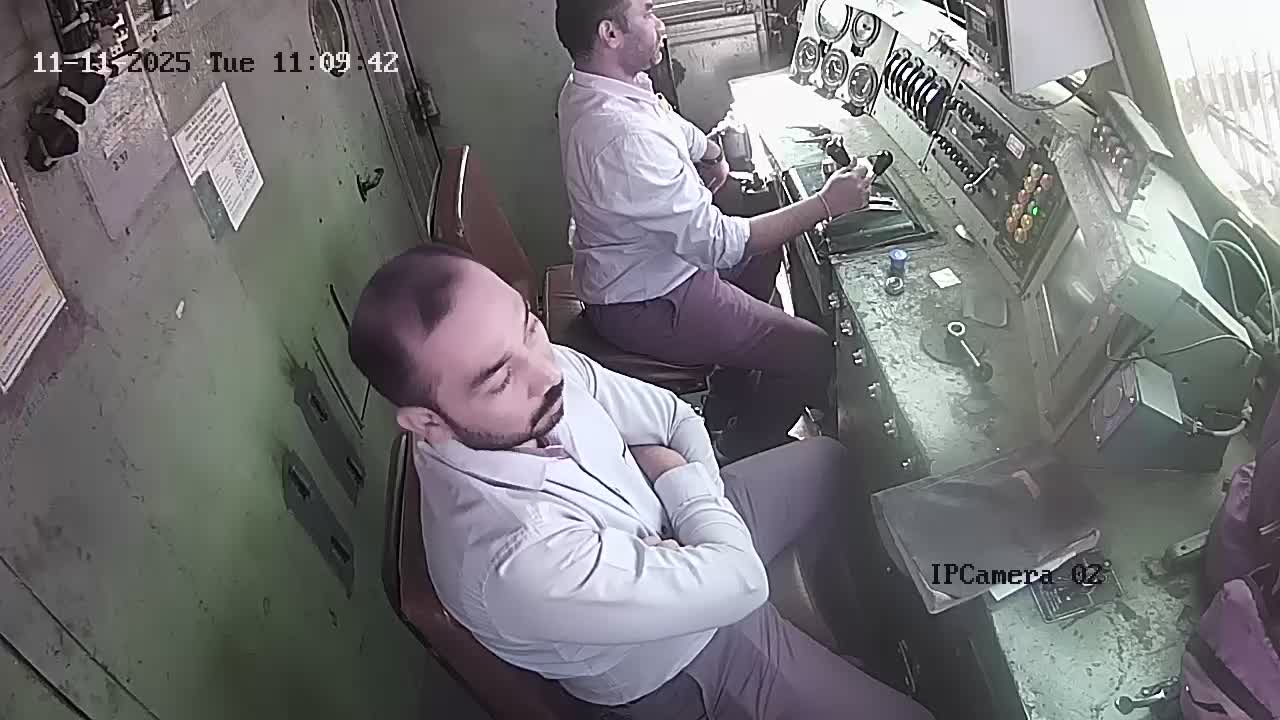bottle: (563, 144, 614, 216)
person: (192, 173, 704, 662), (461, 36, 819, 396)
